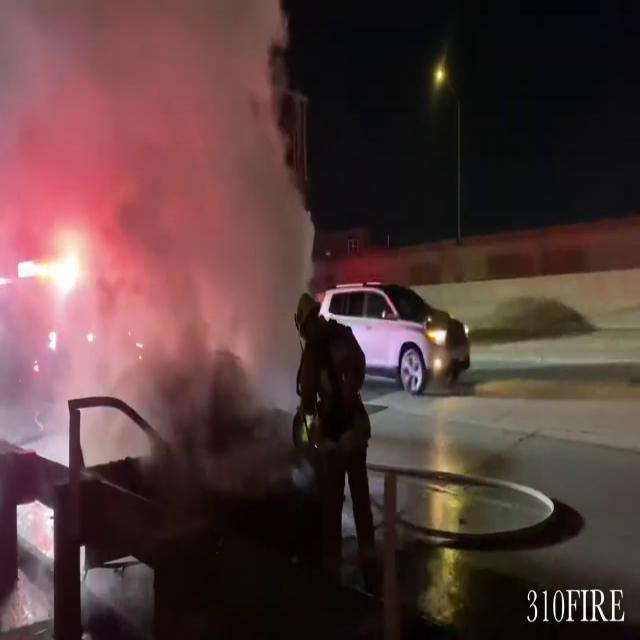Smoke: (0, 0, 328, 436)
